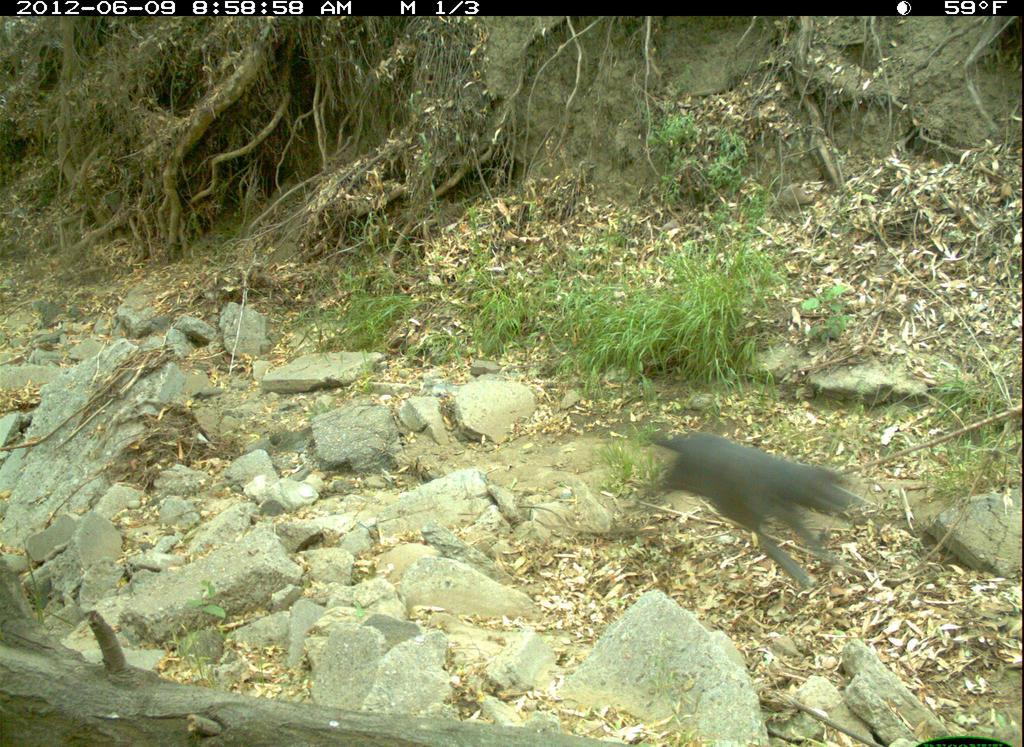dog: (625, 395, 888, 594)
